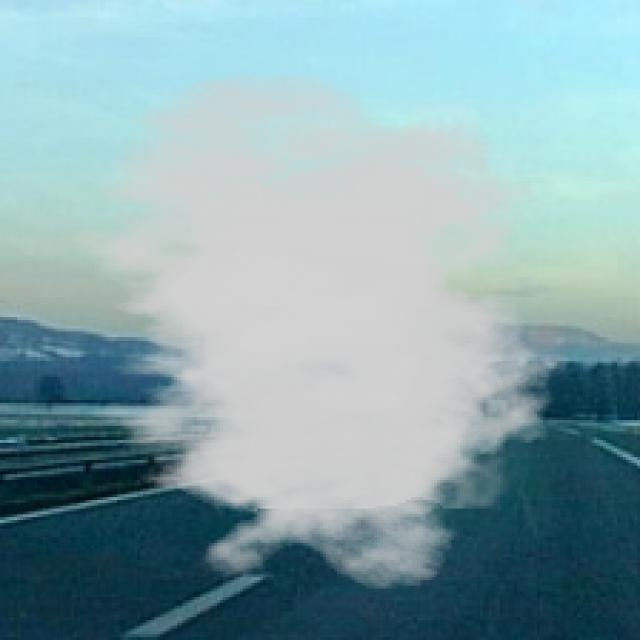smoke: (34, 71, 577, 592)
